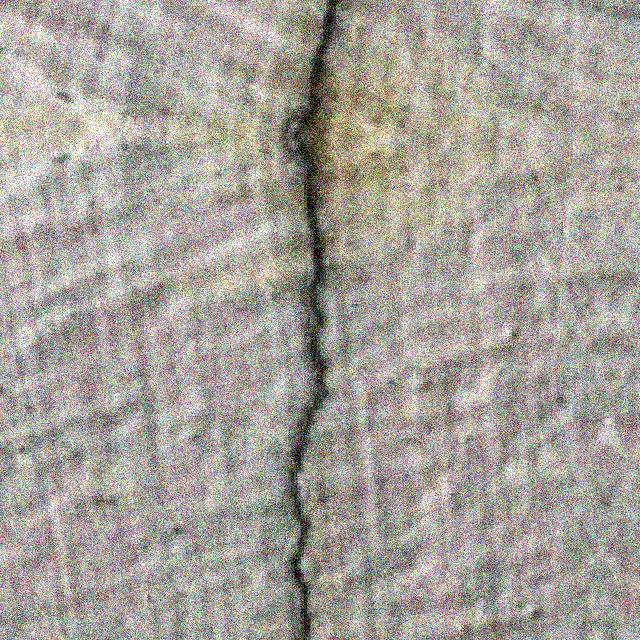SurfaceCrack: (234, 0, 400, 638)
